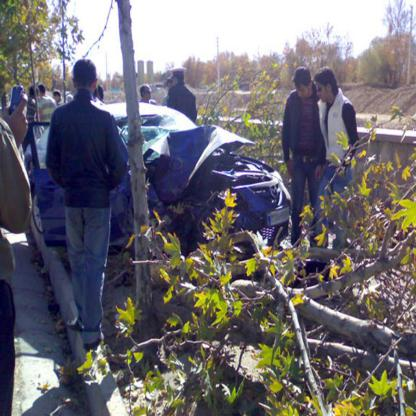face: (318, 83, 330, 102), (298, 84, 310, 100), (145, 88, 152, 99), (54, 95, 60, 103), (169, 84, 174, 92), (68, 97, 73, 104)
